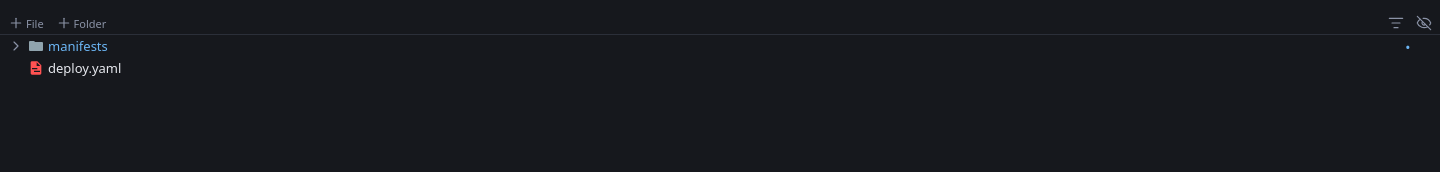
Scenario: the changed-only mode (#40) › goes back to the full tree when the toggle is pressed again
Click the button named "Changed only" at [1396, 23], box [1384,12,1408,34]
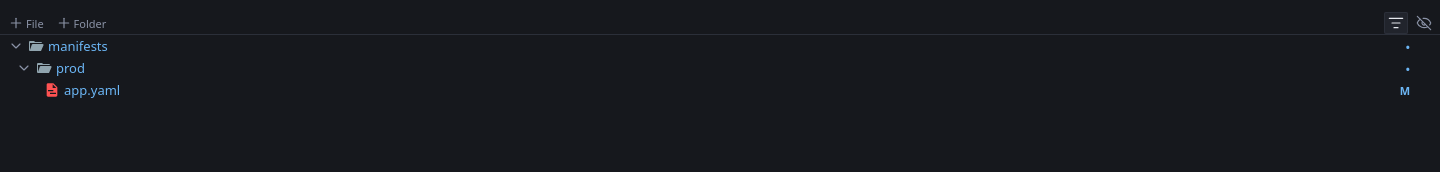
Click the button named "Changed only" at [1396, 23], box [1384,12,1408,34]
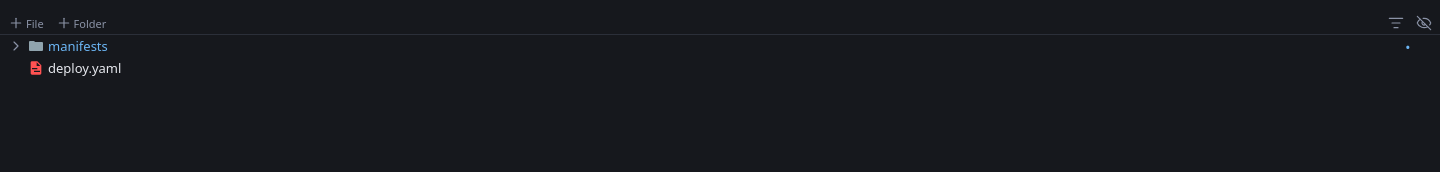
Now the list items read "manifests•", "deploy.yaml", in this order, box [0,35,1439,57]; [28,59,121,77]
